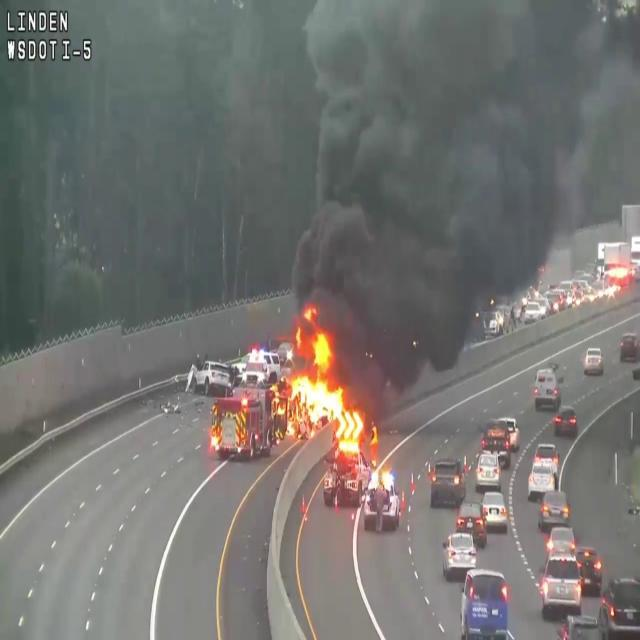Fire: (275, 319, 351, 434)
Smoke: (284, 0, 640, 325)
